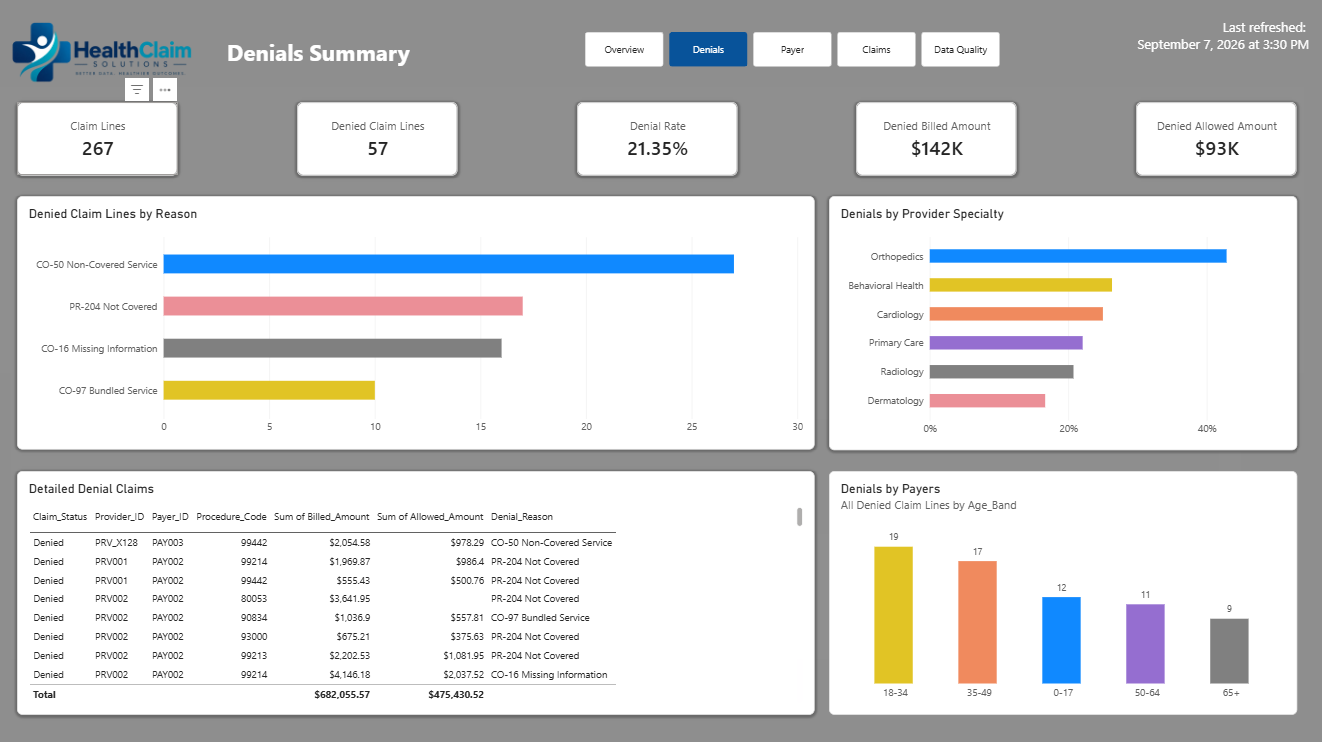

What the dashboard file says about the page in this screenshot:
{"tool":"powerbi","page":{"name":"Denials","canvas":[1920,1080],"ordinal":1},"visuals":[{"type":"cardVisual","title":"Governed Claim %","fields":{"Data":["reporting vw_ClaimsAnalytics.Denial Rate"]},"box":[840,152,231,106],"z":0},{"type":"cardVisual","title":"Governed Claim %","fields":{"Data":["reporting vw_ClaimsAnalytics.Claim Lines"]},"box":[35.1,152,231,106],"z":1000},{"type":"clusteredBarChart","title":"Denied Claim Lines by Reason","fields":{"Category":["reporting vw_ClaimsAnalytics.Denial_Reason"],"Y":["reporting vw_ClaimsAnalytics.Denied New Claim Lines"]},"box":[35.1,288.5,1148.1,364.5],"z":2000},{"type":"clusteredBarChart","title":"Denials by Provider Specialty","fields":{"Category":["reporting vw_ClaimsAnalytics.Specialty"],"Y":["reporting vw_ClaimsAnalytics.All Denial Rate"]},"box":[1202.7,288.5,674.4,366.5],"z":3000},{"type":"tableEx","title":"Detailed Denial Claims","fields":{"Values":["Claims.Claim_Status","Claims.Provider_ID","Claims.Payer_ID","Claims.Procedure_Code","Sum(Claims.Billed_Amount)","Sum(Claims.Allowed_Amount)","Claims.Denial_Reason"]},"box":[35.1,684.2,1148.1,350.9],"z":4000},{"type":"columnChart","title":"Denials by Payers","fields":{"Category":["reporting vw_ClaimsAnalytics.Age_Band"],"Y":["reporting vw_ClaimsAnalytics.All Denied Claim Lines"]},"box":[1202.7,684.2,674.4,350.9],"z":5000},{"type":"image","box":[0,0,309.9,177.4],"z":6000},{"type":"pageNavigator","box":[852.3,51.9,600,50],"z":7000},{"type":"textbox","box":[1569.1,31.2,325.5,64.3],"z":8000},{"type":"cardVisual","title":"Governed Claim %","fields":{"Data":["reporting vw_ClaimsAnalytics.Denied Billed Amount"]},"box":[1242.5,152,231.2,106],"z":9000},{"type":"cardVisual","title":"Governed Claim %","fields":{"Data":["reporting vw_ClaimsAnalytics.Denied Allowed Amount"]},"box":[1645.2,152,231.2,106],"z":10000},{"type":"textbox","box":[337.2,58.5,423,60.4],"z":11000},{"type":"cardVisual","title":"Governed Claim %","fields":{"Data":["reporting vw_ClaimsAnalytics.Denied Claim Lines"]},"box":[437.5,152,231,106],"z":12000}]}

Visuals, with their boxes in screenshot pixels (x1, y1, x2, y2), scaled from the page's 1920x1080 canvas onto the 1322x742 screenshot:
"Governed Claim %" cardVisual: [left=578, top=104, right=737, bottom=177]
"Governed Claim %" cardVisual: [left=24, top=104, right=183, bottom=177]
"Denied Claim Lines by Reason" clusteredBarChart: [left=24, top=198, right=815, bottom=449]
"Denials by Provider Specialty" clusteredBarChart: [left=828, top=198, right=1292, bottom=450]
"Detailed Denial Claims" tableEx: [left=24, top=470, right=815, bottom=711]
"Denials by Payers" columnChart: [left=828, top=470, right=1292, bottom=711]
image: [left=0, top=0, right=213, bottom=122]
pageNavigator: [left=587, top=36, right=1000, bottom=70]
textbox: [left=1080, top=21, right=1305, bottom=66]
"Governed Claim %" cardVisual: [left=856, top=104, right=1015, bottom=177]
"Governed Claim %" cardVisual: [left=1133, top=104, right=1292, bottom=177]
textbox: [left=232, top=40, right=523, bottom=82]
"Governed Claim %" cardVisual: [left=301, top=104, right=460, bottom=177]
